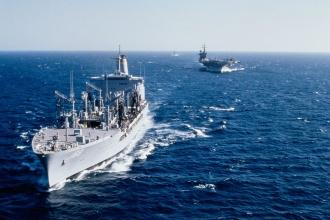warship: (31, 43, 153, 188), (197, 41, 238, 72)
